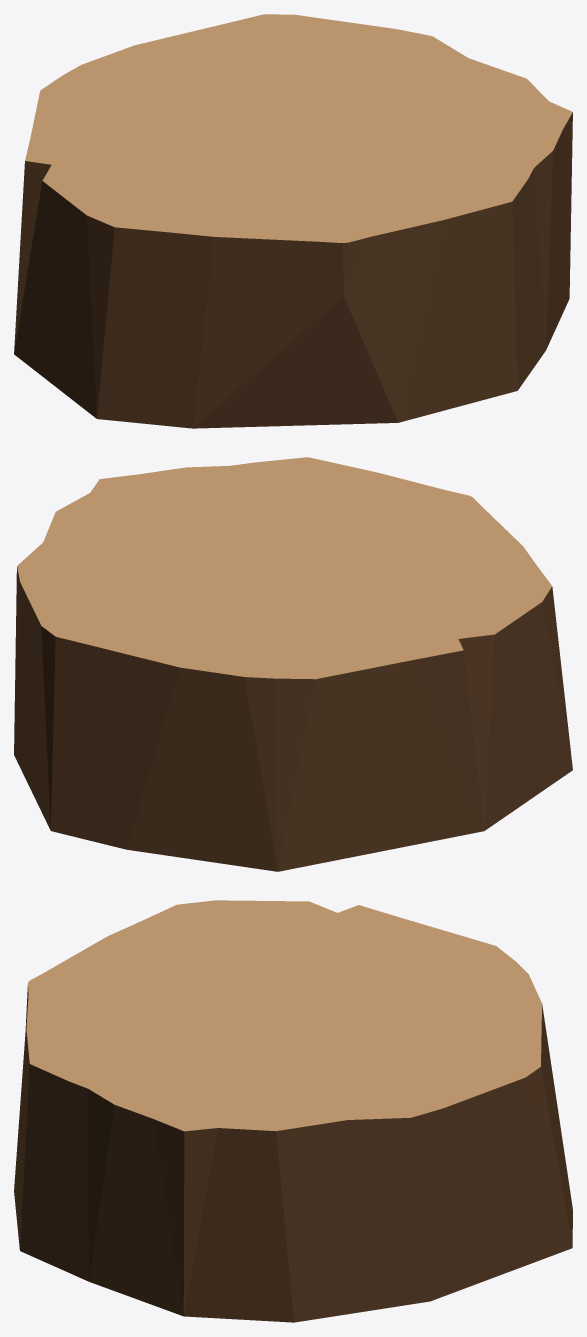
The model's file is Tree_Empty.fbx.
3 renders of one model, top to bottom at view 1: azimuth 30°, elevation 25°; view 2: azimuth 150°, elevation 25°; view 3: azimuth 270°, elevation 25°, orthographic. The views are drawn at different scales.
Parts seen in each view (by area): view 1: SM_Tree; view 2: SM_Tree; view 3: SM_Tree.
Boxes of the visible parts, x1,y1,x2,y2 form: SM_Tree: [14, 14, 572, 428]; SM_Tree: [14, 457, 572, 871]; SM_Tree: [14, 900, 572, 1322].
Size of the model in its own units: 209 by 75.58 by 205.
